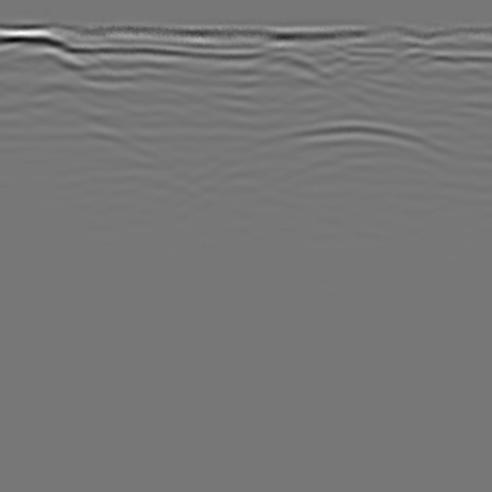hyperbola: (226, 105, 481, 214)
